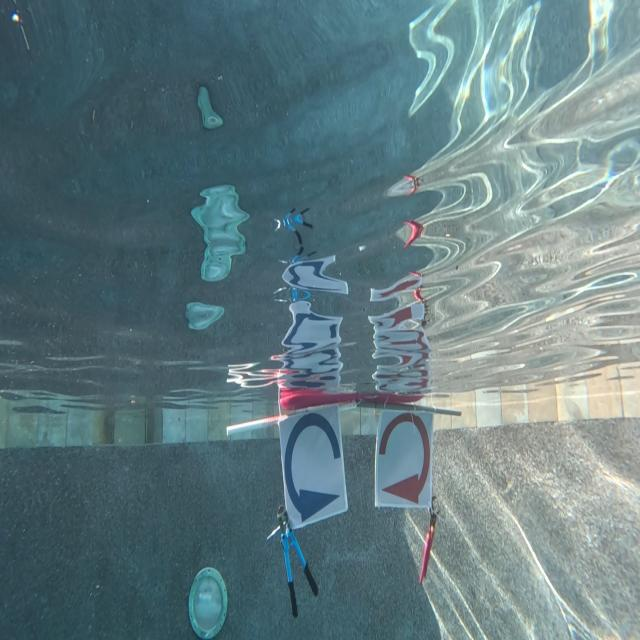blue_side: (282, 409, 346, 524)
red_side: (372, 409, 430, 500)
